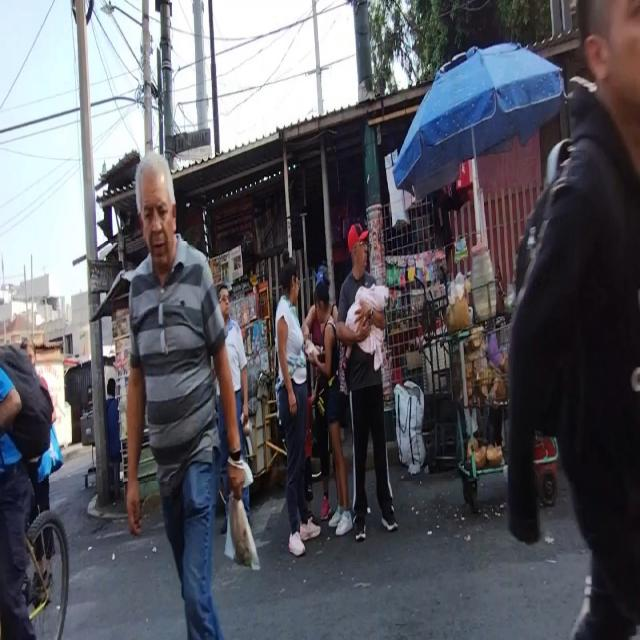adult: (508, 0, 640, 640), (123, 146, 245, 640), (336, 226, 398, 540), (275, 257, 319, 557), (310, 275, 352, 538), (216, 285, 250, 554)
